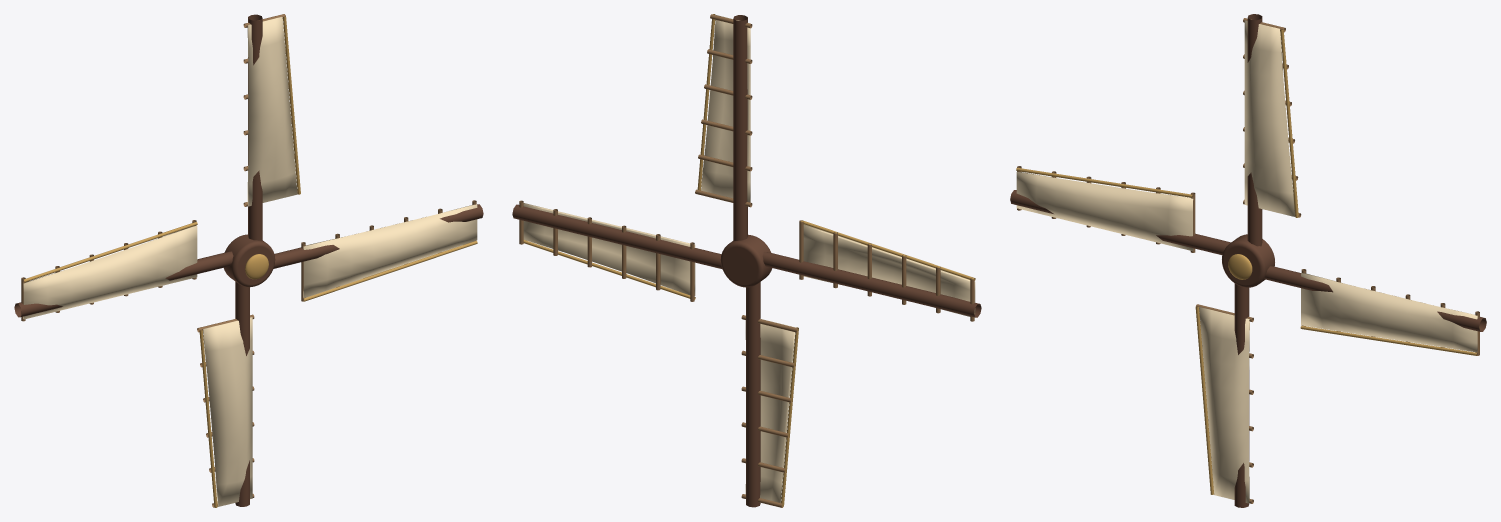
File: windmill_sails_crafted.glb
3 views of the same model, side by side, from view 1: azimuth 30°, elevation 25°; view 2: azimuth 150°, elevation 25°; view 3: azimuth 330°, elevation 25° (orthographic).
Visible parts, largest first — view 1: Canvas stripe, Oiled chestnut joinery, Antique brass, Polished worn timber edge; view 2: Canvas stripe, Oiled chestnut joinery, Polished worn timber edge, Antique brass; view 3: Canvas stripe, Oiled chestnut joinery, Antique brass, Polished worn timber edge.
Part boxes in pixels (left/top/right/bottom): Canvas stripe: left=23, top=16, right=477, bottom=506; Oiled chestnut joinery: left=14, top=14, right=483, bottom=506; Antique brass: left=24, top=15, right=477, bottom=507; Polished worn timber edge: left=21, top=14, right=476, bottom=507; Canvas stripe: left=523, top=15, right=975, bottom=502; Oiled chestnut joinery: left=512, top=15, right=981, bottom=507; Polished worn timber edge: left=519, top=14, right=974, bottom=507; Antique brass: left=523, top=14, right=975, bottom=506; Canvas stripe: left=1016, top=20, right=1477, bottom=503; Oiled chestnut joinery: left=1010, top=14, right=1486, bottom=507; Antique brass: left=1016, top=29, right=1477, bottom=494; Polished worn timber edge: left=1017, top=18, right=1479, bottom=503.
Bounding box in the file's own units: 4.32 × 4.32 × 0.272.
